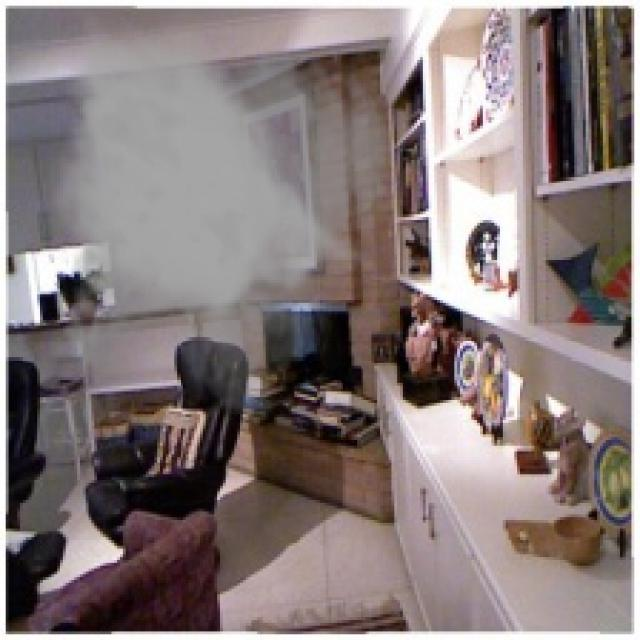smoke: (52, 12, 394, 414)
